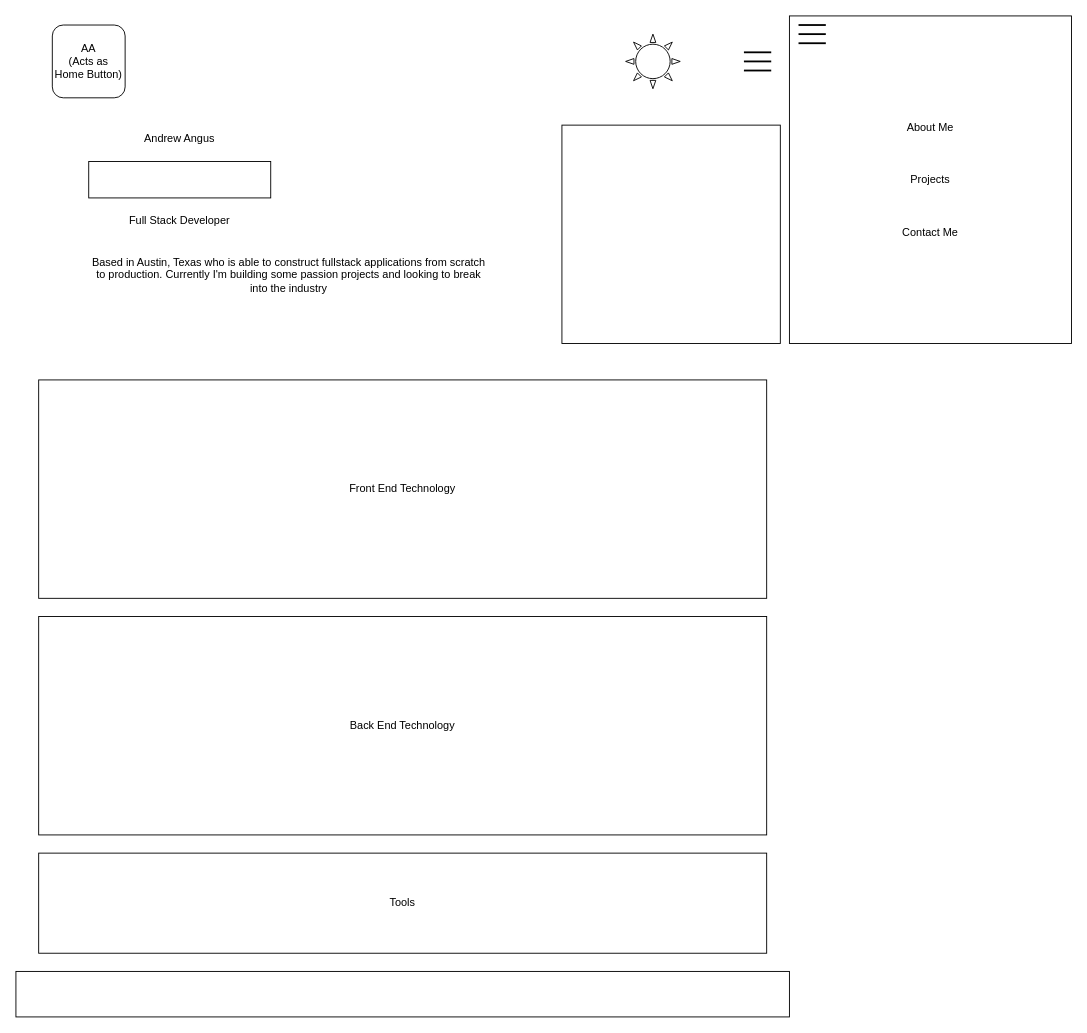
This 1087x1033 diagram has some shape labels left out. The shapes that lost their labels are listed below. From the top down, each one's box as (x1, y1, x2, y2) in pixels, then its label:
(88, 161, 271, 198): Insert Signature Here
(561, 124, 780, 344): Photo
(15, 971, 789, 1017): Footer (Social Links) Andrew Angus Copywright
